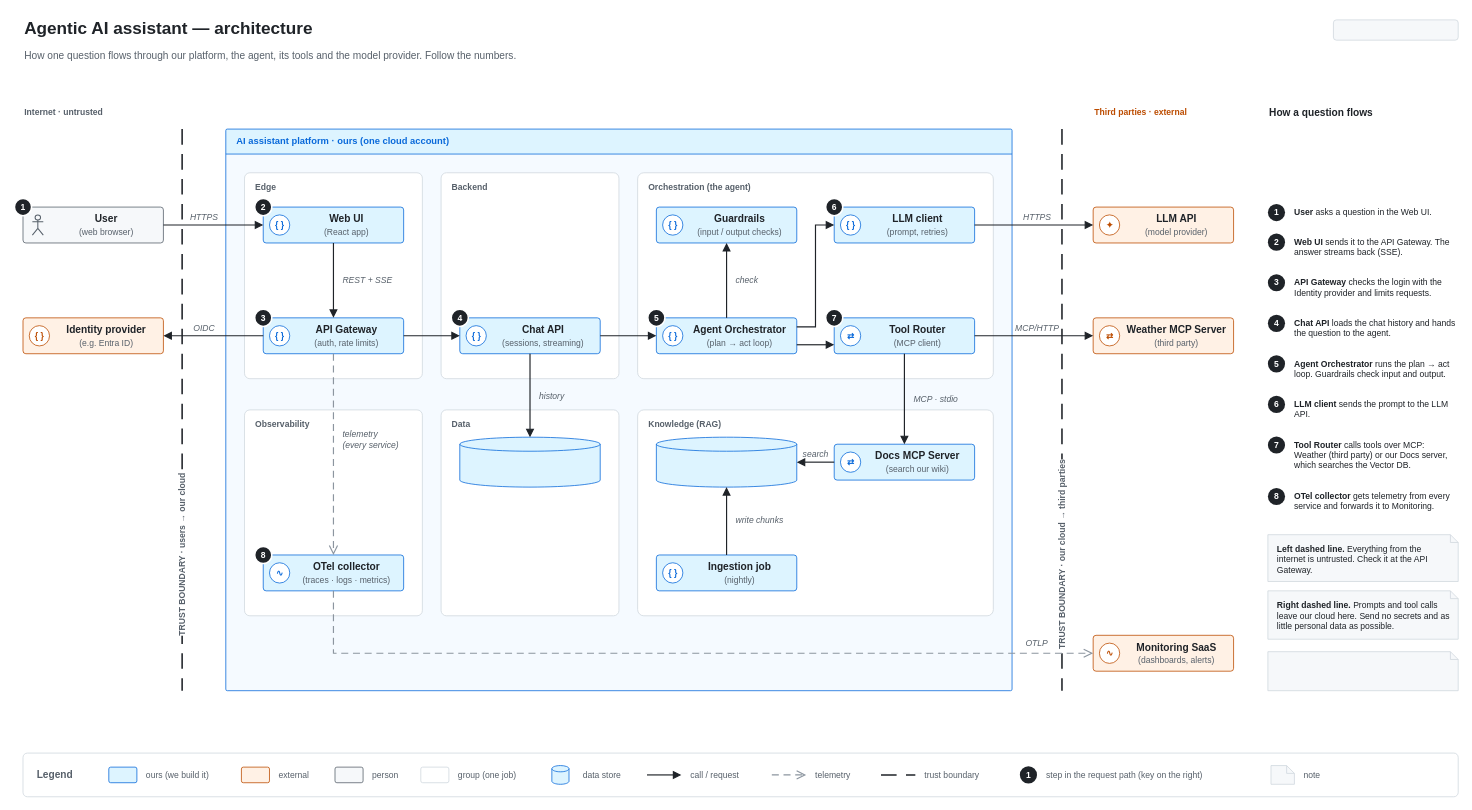
This 1472x810 diagram has some shape labels left out. The centre of each missing label's shape, as x and y in pixels:
"Conversation DB (Postgres)" belongs at (529,461).
"Every orange box can fail, cost money, or see our data." belongs at (1362,671).
"v1.0 · 2026-11-14" belongs at (1395,29).
"Vector DB (doc chunks)" belongs at (726,461).
